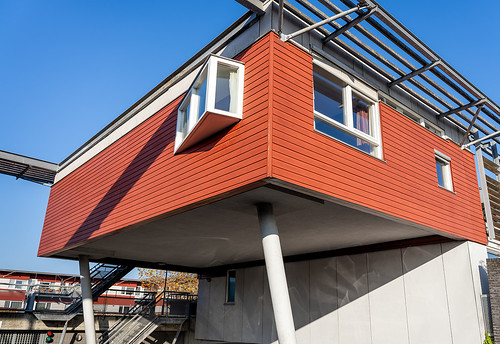high: (34, 0, 500, 344)
